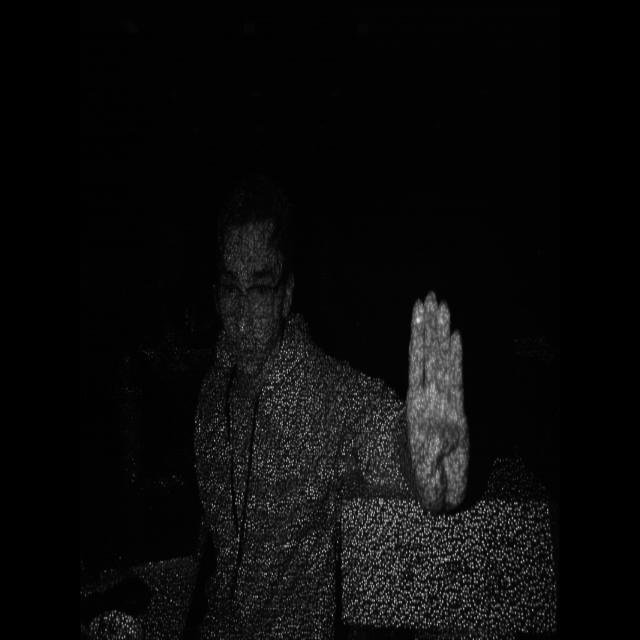B: (397, 291, 478, 528)
